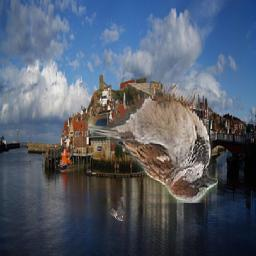Sparrow: (88, 83, 218, 203)
Swallow: (110, 197, 125, 221)
